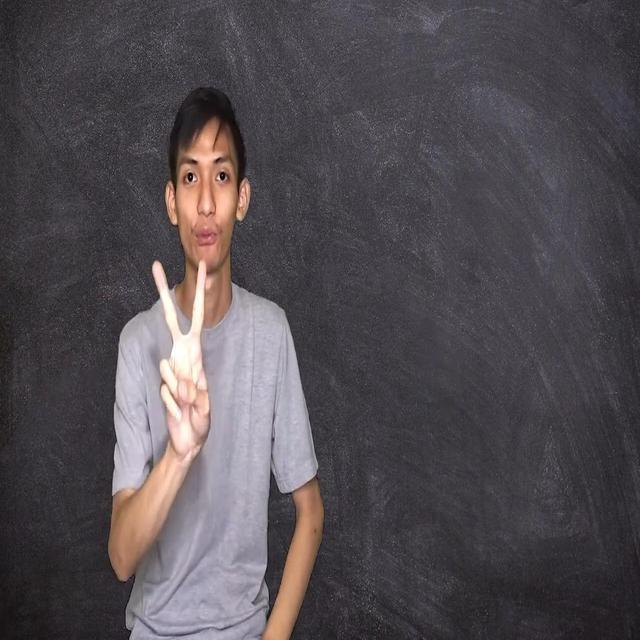V: (148, 256, 215, 431)
